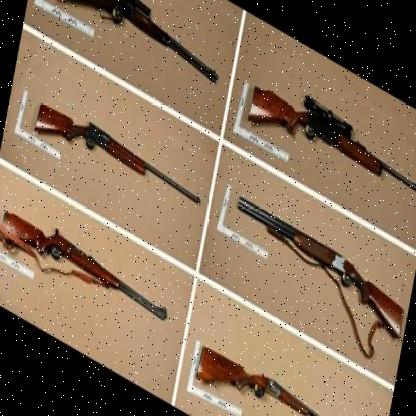rifle: (232, 190, 408, 340), (32, 70, 208, 220), (0, 192, 173, 342), (247, 66, 416, 216), (47, 0, 223, 94), (193, 336, 369, 416)
